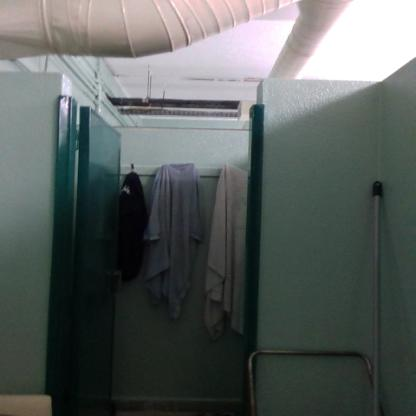open: (40, 87, 258, 405)
